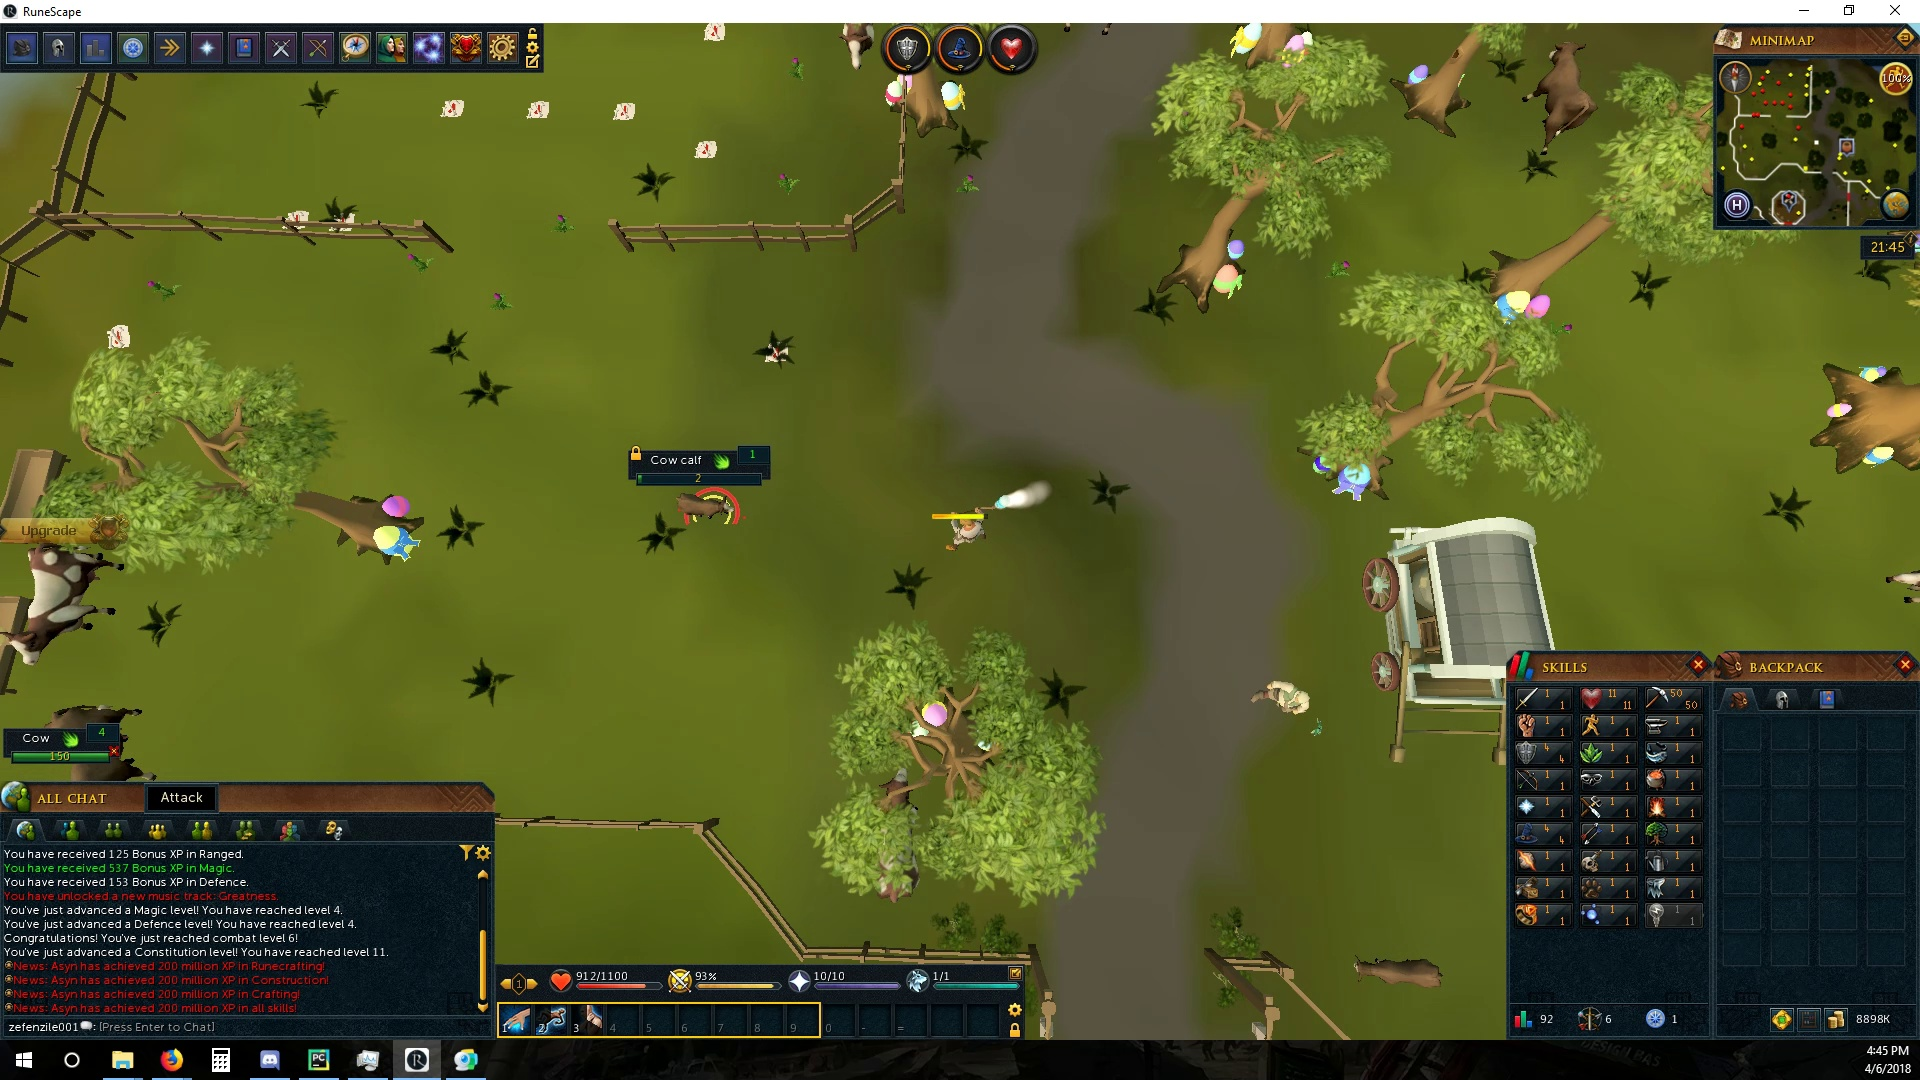calf: (1349, 953, 1447, 996), (671, 491, 736, 526)
cow: (1, 541, 131, 673), (1522, 37, 1600, 158), (861, 764, 926, 906), (42, 703, 158, 781)
cow_drop: (274, 210, 315, 232), (100, 323, 133, 349), (431, 96, 465, 119), (524, 98, 554, 123), (690, 137, 717, 161), (607, 100, 637, 121), (702, 26, 728, 42)
